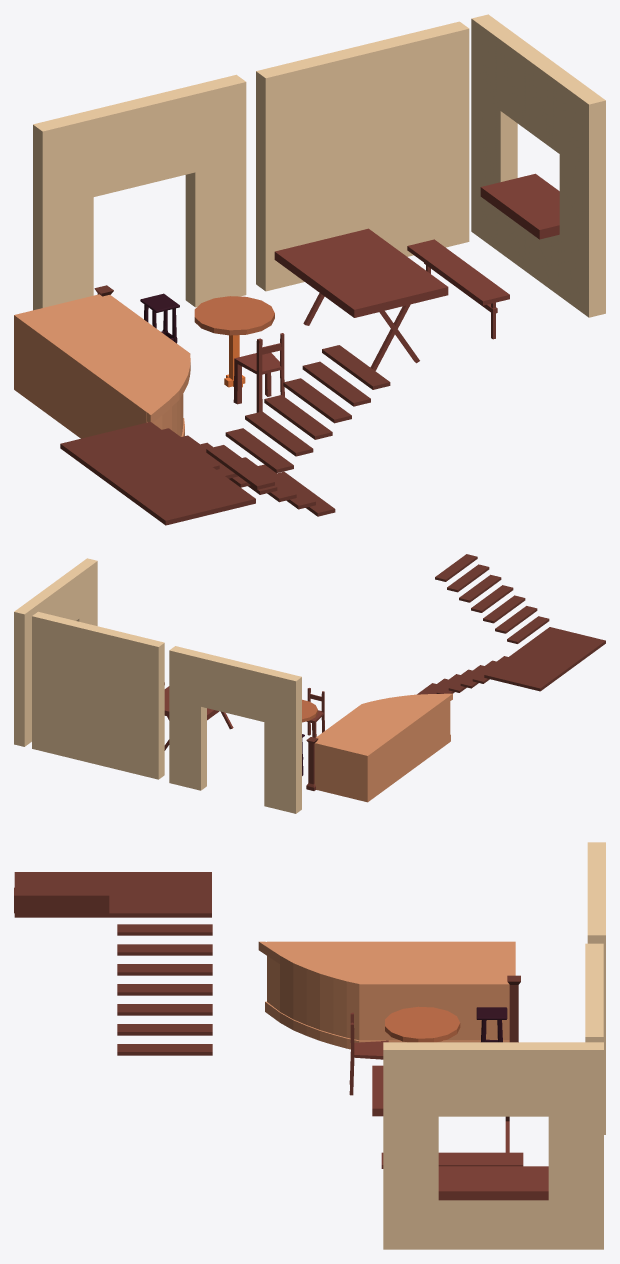
Rendered from Bar_New_Version.fbx.
The picture shows the model from 3 angles, top to bottom: view 1: azimuth 30°, elevation 25°; view 2: azimuth 150°, elevation 25°; view 3: azimuth 270°, elevation 25°; orthographic projection. The views are drawn at different scales.
Parts seen in each view (by area): view 1: Wall.001, Door_Wall.001, Wall_Window.001, Bar_Counter.001, Stairs_Middle.003, Table.004, Stairs_Up.003, Bar_Edge.001, Round_Table.001, Seat.004, Stairs_Down.003, Chair (+1 smaller); view 2: Wall.001, Door_Wall.001, Bar_Counter.001, Wall_Window.001, Stairs_Middle.003, Stairs_Up.003, Bar_Edge.001, Stairs_Down.003, Chair, Bar_Column.001, Table.004; view 3: Wall_Window.001, Bar_Counter.001, Bar_Edge.001, Stairs_Down.003, Stairs_Middle.003, Stairs_Up.003, Door_Wall.001, Round_Table.001, Wall.001, Seat.004, Chair, Table.004 (+2 smaller).
Boxes of the visible parts, x1,y1,x2,y2 form: Wall.001: (256, 21, 469, 291); Door_Wall.001: (33, 74, 246, 310); Wall_Window.001: (471, 14, 605, 317); Bar_Counter.001: (14, 294, 190, 438); Stairs_Middle.003: (60, 422, 255, 525); Table.004: (274, 228, 448, 370); Stairs_Up.003: (206, 345, 390, 489); Bar_Edge.001: (97, 353, 190, 436); Round_Table.001: (194, 296, 274, 387); Seat.004: (407, 239, 509, 339); Stairs_Down.003: (162, 428, 335, 516); Chair: (233, 333, 284, 412); Wall.001: (32, 611, 164, 779); Door_Wall.001: (169, 646, 301, 813); Bar_Counter.001: (314, 704, 419, 802); Wall_Window.001: (14, 558, 97, 746); Stairs_Middle.003: (484, 627, 605, 691); Stairs_Up.003: (435, 554, 549, 643); Bar_Edge.001: (363, 693, 452, 763); Stairs_Down.003: (417, 656, 507, 694); Chair: (306, 688, 324, 737); Bar_Column.001: (306, 737, 318, 790); Table.004: (164, 686, 233, 750); Wall_Window.001: (383, 1042, 603, 1249); Bar_Counter.001: (359, 941, 515, 1042); Bar_Edge.001: (258, 941, 359, 1049); Stairs_Down.003: (117, 924, 212, 1055); Stairs_Middle.003: (14, 872, 211, 917); Stairs_Up.003: (14, 887, 109, 913); Door_Wall.001: (587, 842, 605, 1134); Round_Table.001: (385, 1006, 460, 1042); Wall.001: (585, 943, 603, 1042); Seat.004: (381, 1152, 523, 1168); Chair: (349, 1012, 388, 1095); Table.004: (372, 1065, 509, 1152).
Size of the model in its own units: 1157 by 366 by 967.
